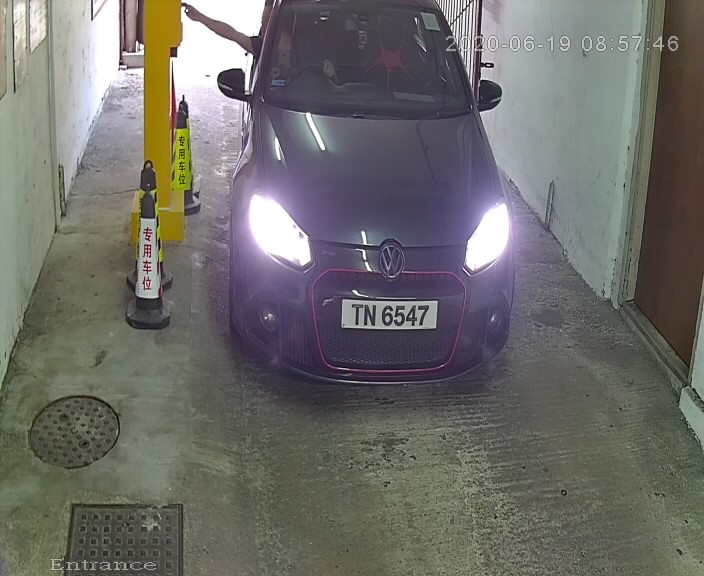bottom_left_lp: (339, 318, 349, 331)
bottom_left_windshield: (252, 85, 275, 107), (319, 267, 338, 283)
bottom_right_lp: (429, 321, 440, 328)
bottom_right_windshield: (448, 87, 480, 113), (449, 265, 466, 285)
brand: (378, 237, 404, 278)
left_headlight: (243, 181, 322, 276)
right_headlight: (454, 191, 515, 280)
top_left_lp: (338, 295, 349, 305)
top_left_radiator: (314, 232, 324, 244)
top_left_windshield: (274, 1, 298, 18)
top_right_lp: (433, 298, 443, 307)
top_right_radiator: (454, 231, 473, 245)
top_right_windshield: (427, 4, 449, 21)
